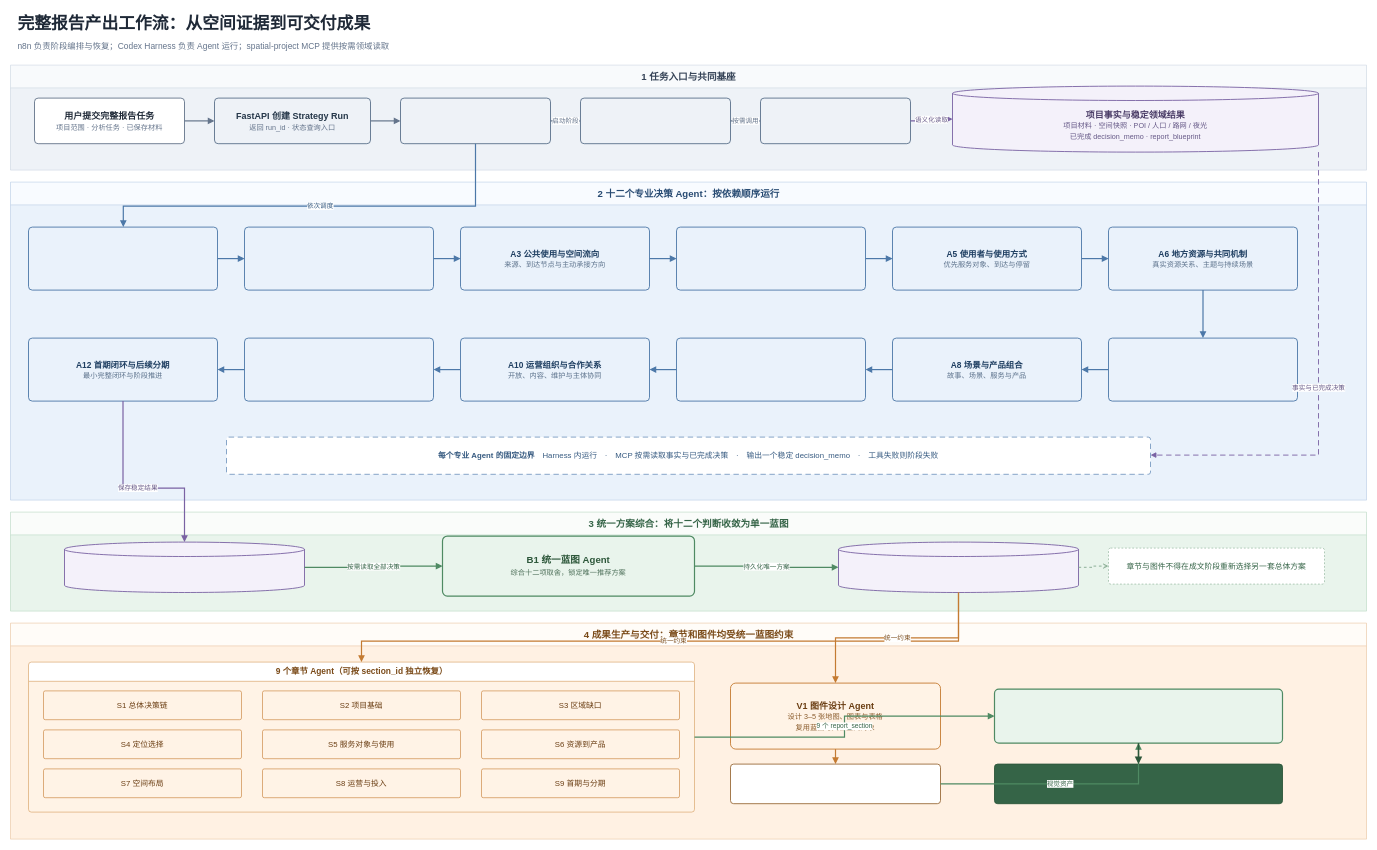
Image size: 1377x850. Some labels were removed from this diagram. Here are the shapes that lost their labels. From the top down, the centre of each, then its label:
At point 475,120: "n8n 业务编排 排队 · 依赖 · 保存 · 失败恢复".
At point 655,120: "Codex Harness 上下文 · 工具调用 · 结构化输出".
At point 835,120: "spatial-project MCP 语义化领域读取入口".
At point 123,258: "A1 项目材料与项目基础 对象、数字、空间关系与设想".
At point 339,258: "A2 项目类型与区域角色 区域节点、道路与功能分工".
At point 771,258: "A4 具名供给与服务空位 现有设施与项目增量价值".
At point 339,369: "A11 投入与运营判断 相对投入与运营方式适配".
At point 771,369: "A9 空间组织与具体落位 产品、流程、对象与连接关系".
At point 1203,369: "A7 候选定位比较 比较前六项候选与约束".
At point 184,567: "12 × decision_memo 比较 · 判断 · 依据 · 行动 · 具名对象".
At point 958,567: "report_blueprint 定位 · 未来状态 · 决策链 · 行动计划".
At point 1138,715: "报告装配与导出 合并章节 · 插入图件 · 状态持久化".
At point 835,783: "确定性图件渲染 生成并校验视觉资产".
At point 1138,783: "最终交付 Markdown · DOCX · 3–5 张图件 · 可恢复的报告状态".
